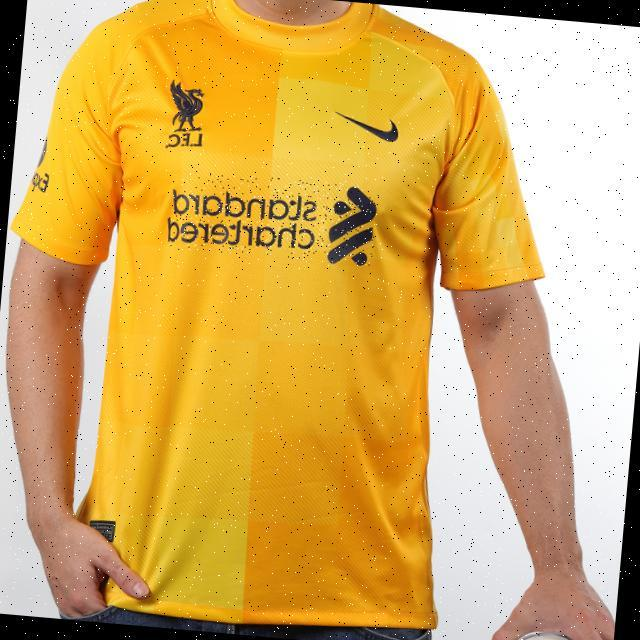Nike: (332, 112, 401, 144)
Standard Chartered: (167, 169, 380, 267)
